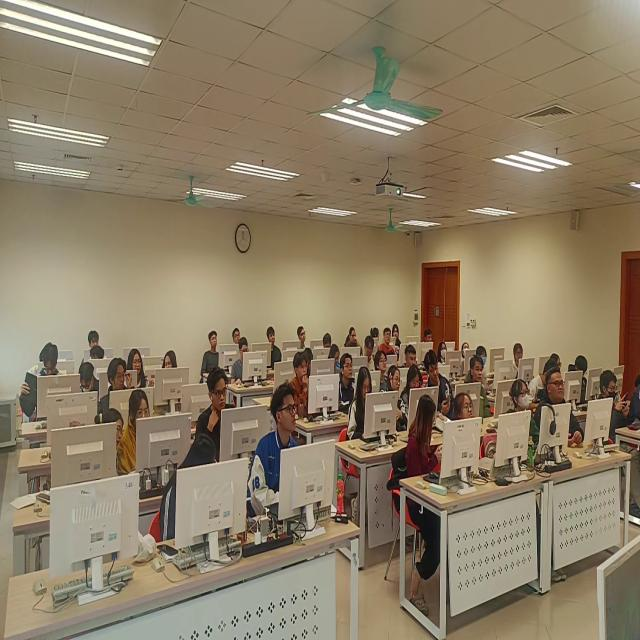raise_hand: (21, 338, 65, 416), (99, 353, 136, 426), (342, 319, 364, 359)
raise_head: (246, 379, 301, 529), (191, 361, 239, 468), (536, 368, 581, 462), (499, 376, 536, 462), (287, 345, 316, 432), (465, 351, 496, 421), (451, 387, 478, 448), (200, 325, 224, 380), (338, 353, 359, 408), (373, 346, 391, 397), (265, 325, 283, 373), (510, 337, 527, 386), (380, 324, 396, 354), (86, 328, 103, 354), (297, 319, 309, 354), (231, 319, 242, 357), (392, 319, 404, 349), (438, 337, 450, 367), (461, 337, 471, 363)
using_computer: (117, 387, 155, 482), (346, 368, 378, 453), (22, 334, 49, 401), (76, 358, 103, 418), (399, 360, 424, 419), (567, 353, 592, 409), (126, 343, 151, 396), (384, 360, 404, 426), (528, 358, 556, 404), (231, 336, 251, 390), (473, 340, 494, 386), (325, 344, 343, 386), (632, 359, 640, 452), (550, 346, 565, 380), (424, 323, 438, 357), (323, 331, 333, 356)
using_phone: (405, 396, 447, 506), (596, 368, 634, 445), (423, 346, 454, 422)
